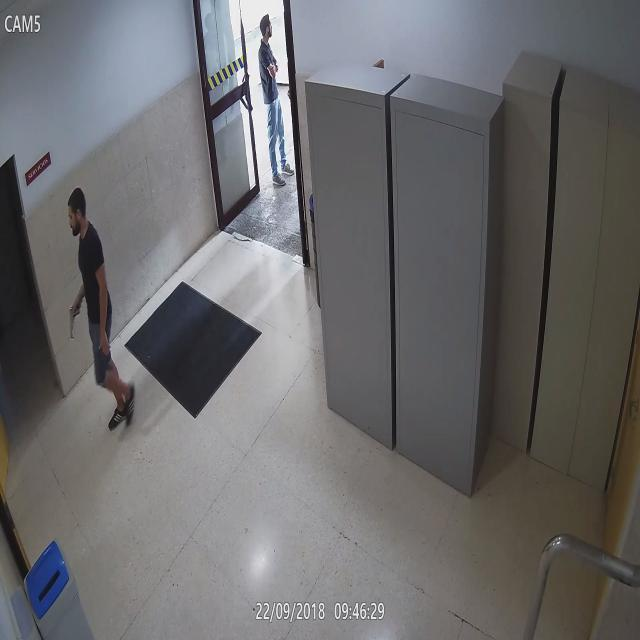Gun: (68, 303, 82, 342)
